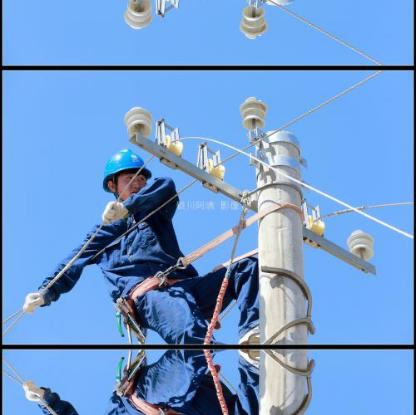Safety Helmet: (93, 140, 155, 201)
